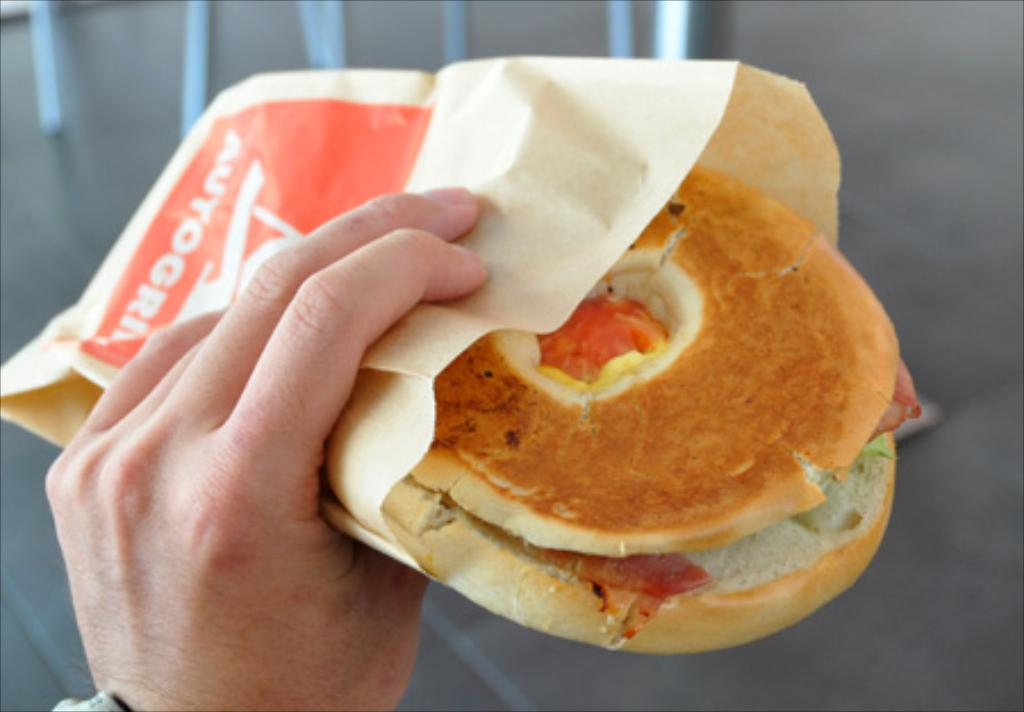Hamburger: (382, 166, 923, 659)
